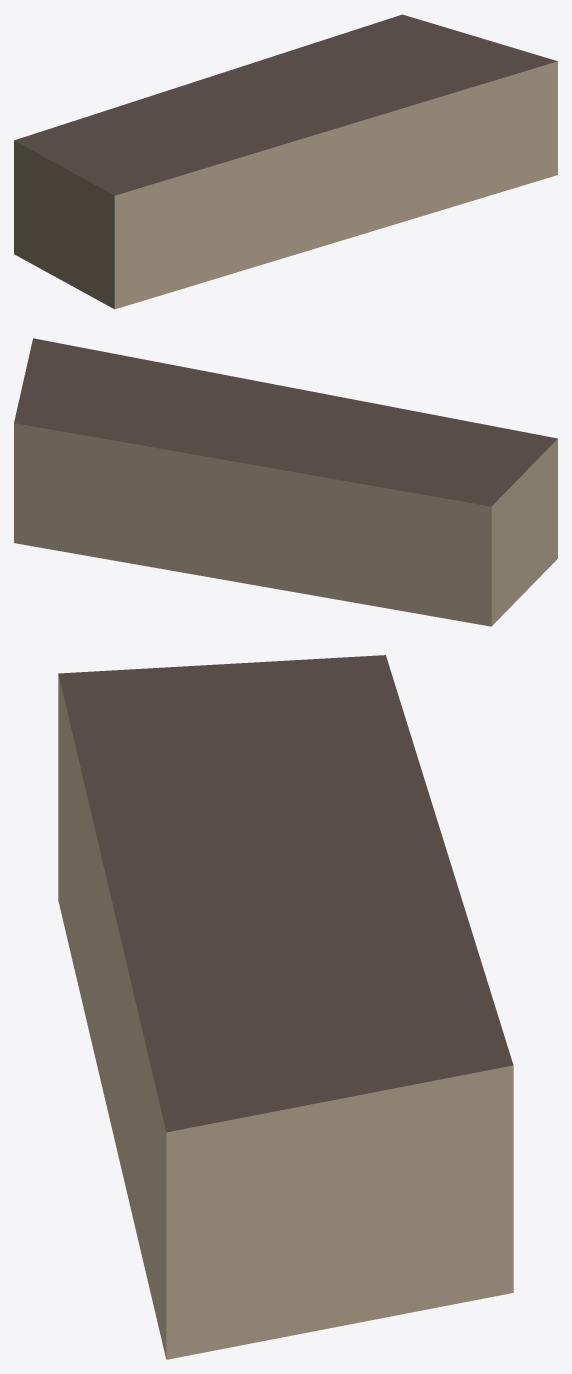
3 renders of one model, top to bottom at view 1: azimuth 30°, elevation 25°; view 2: azimuth 150°, elevation 25°; view 3: azimuth 270°, elevation 25°, orthographic. The views are drawn at different scales.
Parts seen in each view (by area): view 1: HP-w369342586; view 2: HP-w369342586; view 3: HP-w369342586.
Part boxes in pixels (x1,y1,x2,y2): HP-w369342586: (14,14,557,309); HP-w369342586: (14,338,557,626); HP-w369342586: (58,655,513,1359).
Size of the model in its own units: 40.51 by 9 by 16.32.
